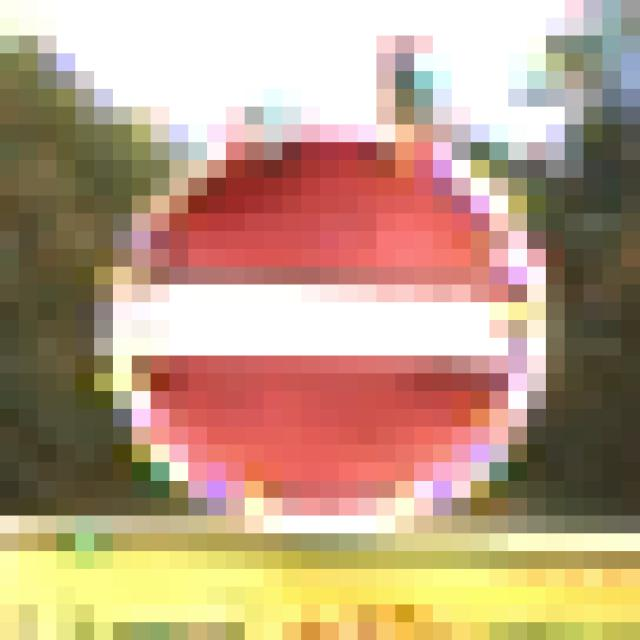No Entry: (95, 108, 547, 552)
